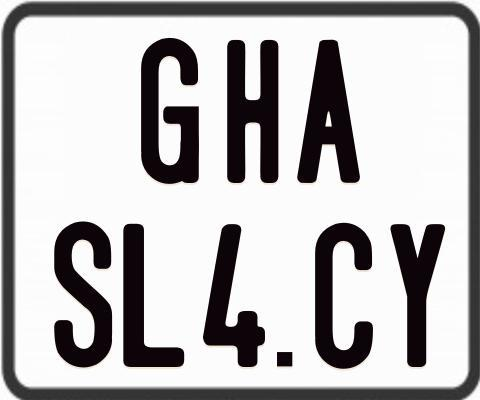4: (200, 221, 266, 368)
A: (295, 38, 363, 185)
C: (313, 222, 373, 370)
G: (138, 35, 196, 181)
H: (226, 38, 283, 182)
L: (122, 222, 187, 366)
S: (51, 218, 110, 370)
Y: (388, 223, 444, 371)
